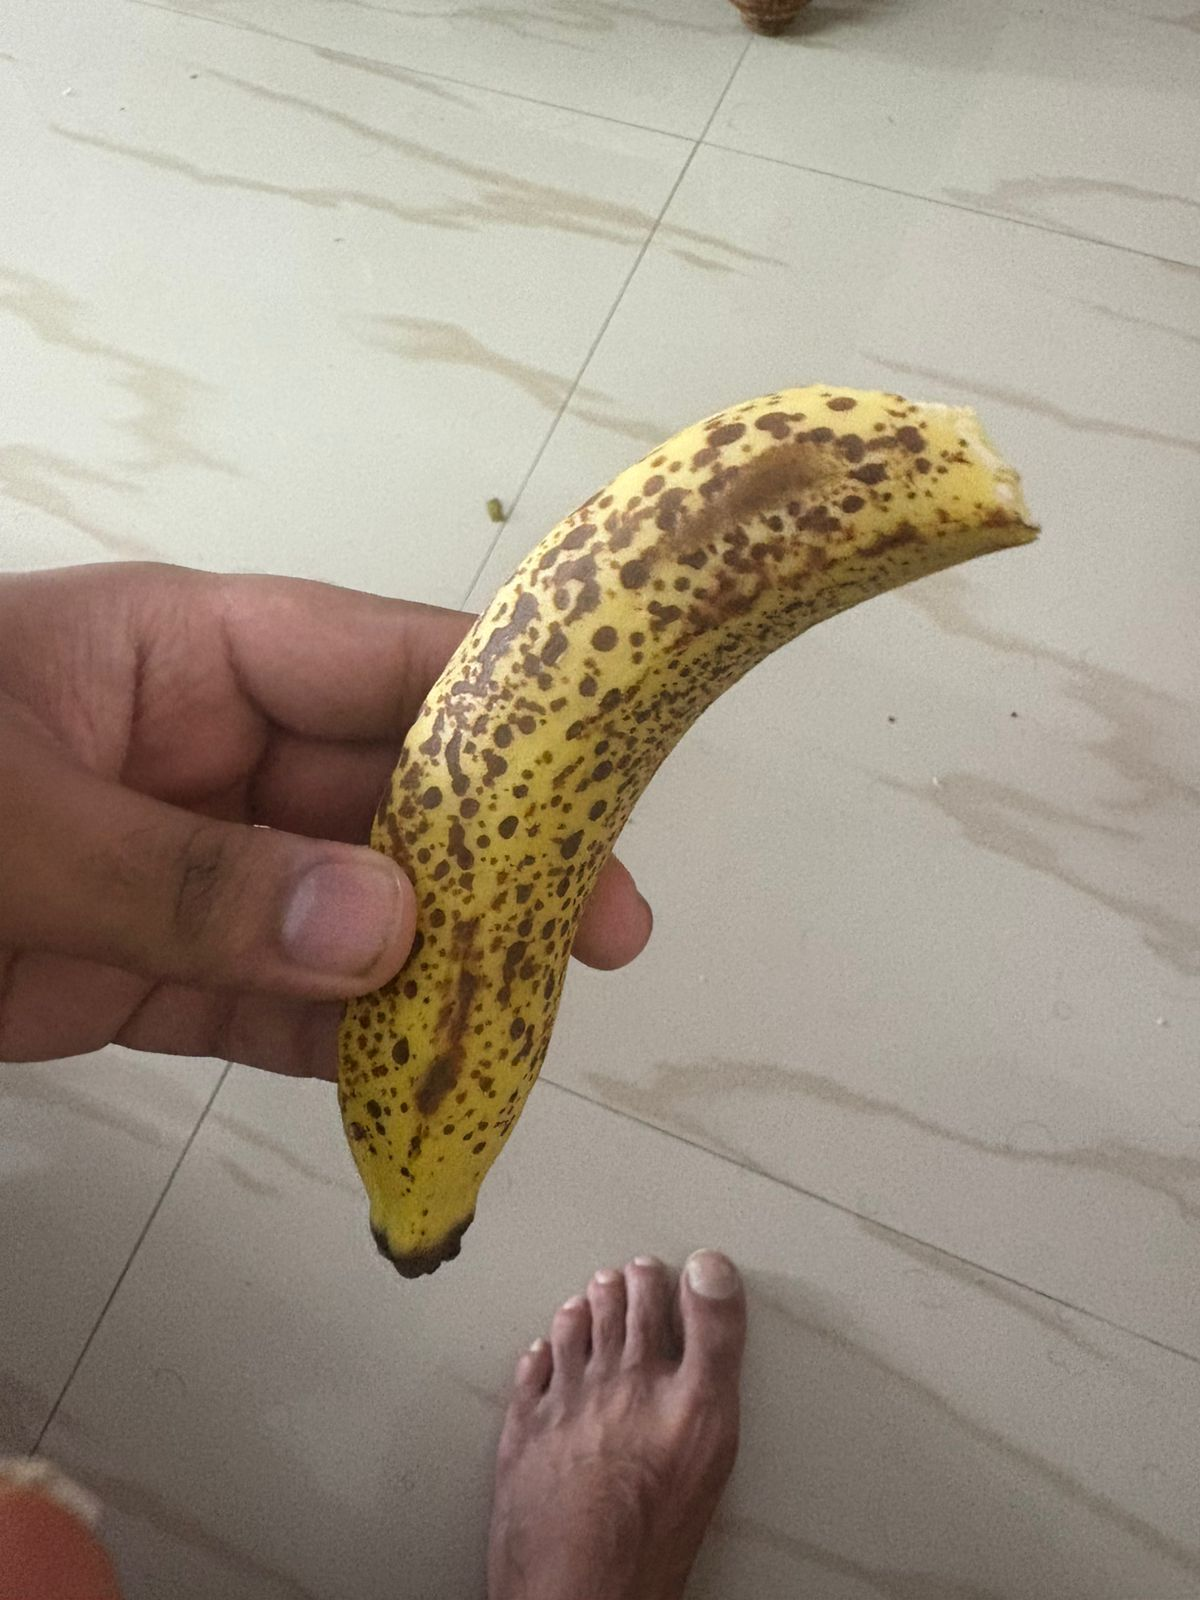wet: (308, 355, 1047, 1285)
